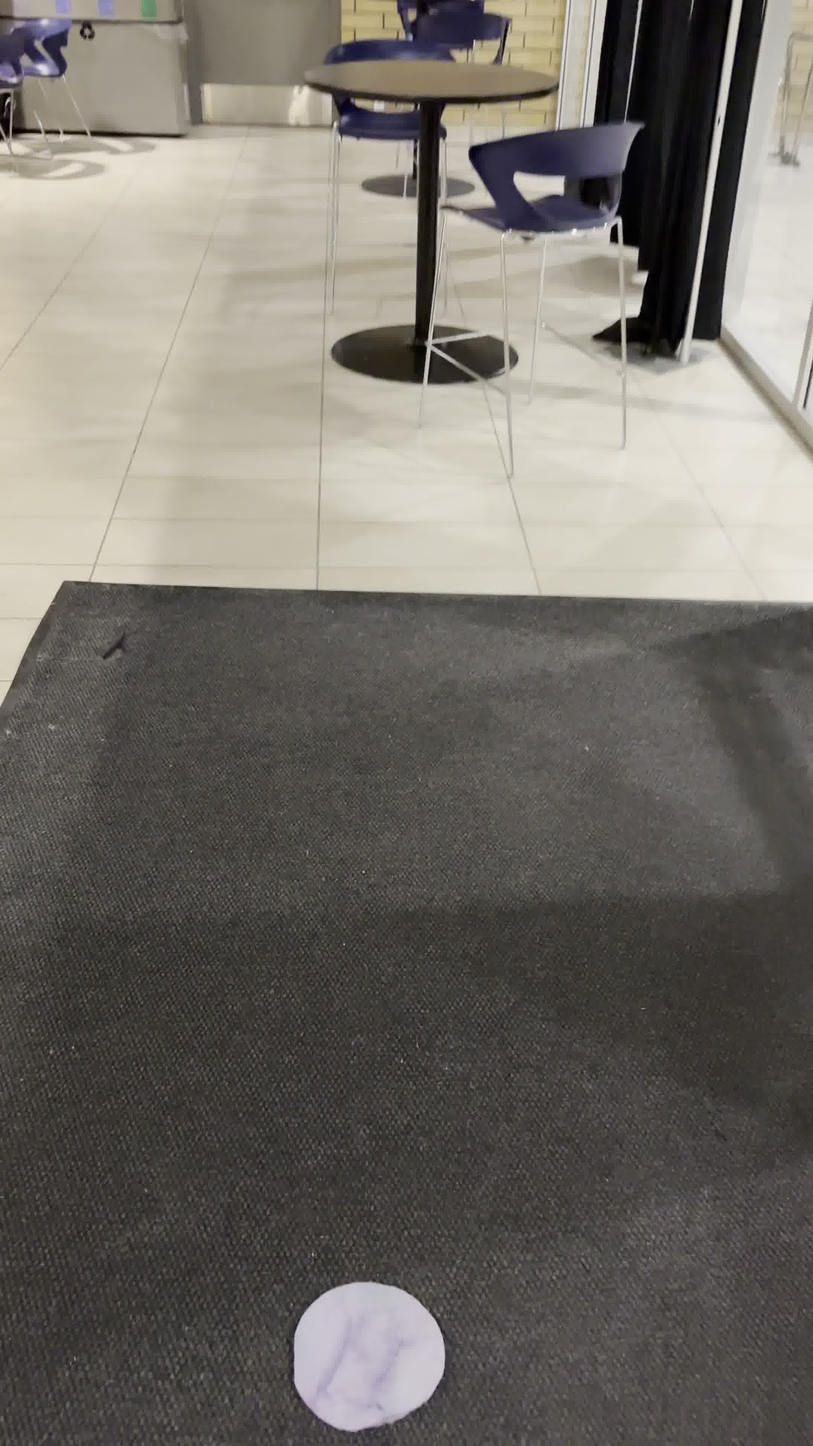Target: (291, 1280, 447, 1437)
